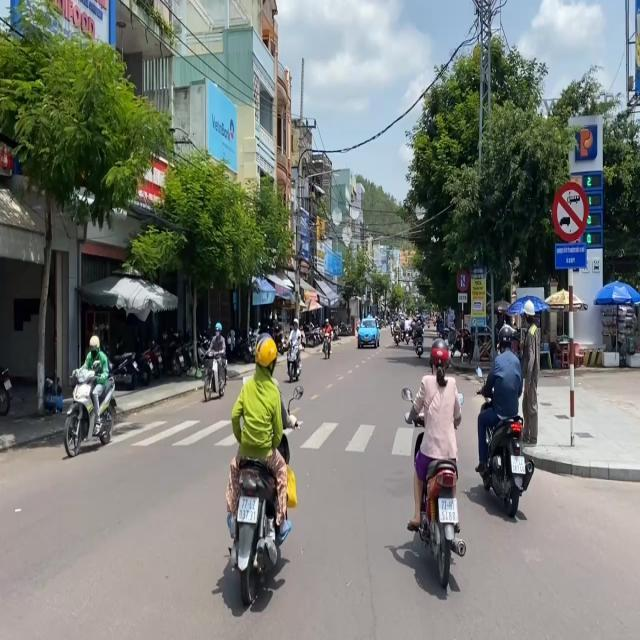walk-crossing: (118, 416, 484, 458)
